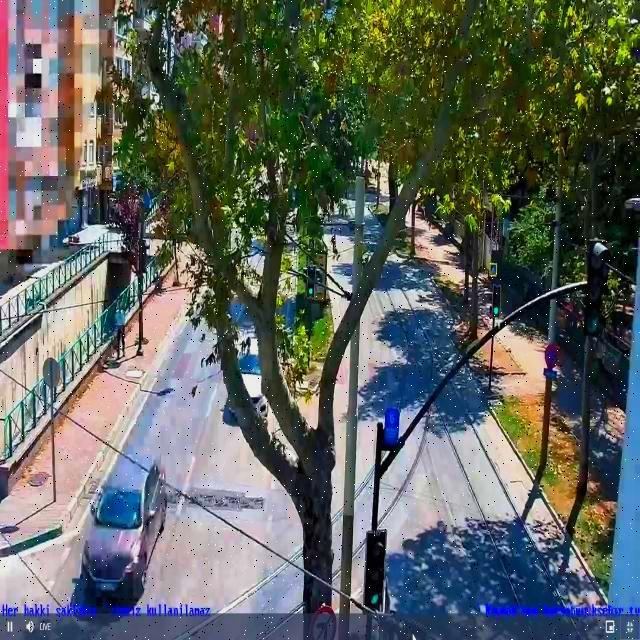Car: (84, 450, 168, 599)
